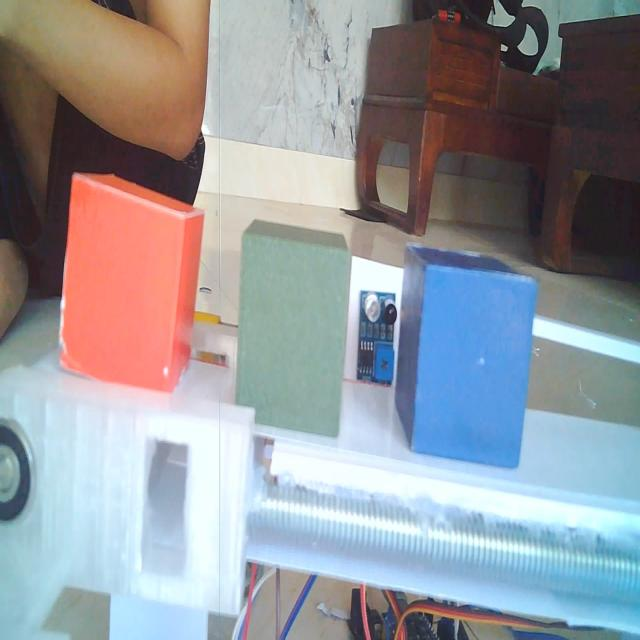blue: (394, 228, 542, 476)
green: (234, 205, 355, 446)
red: (56, 162, 207, 394)
